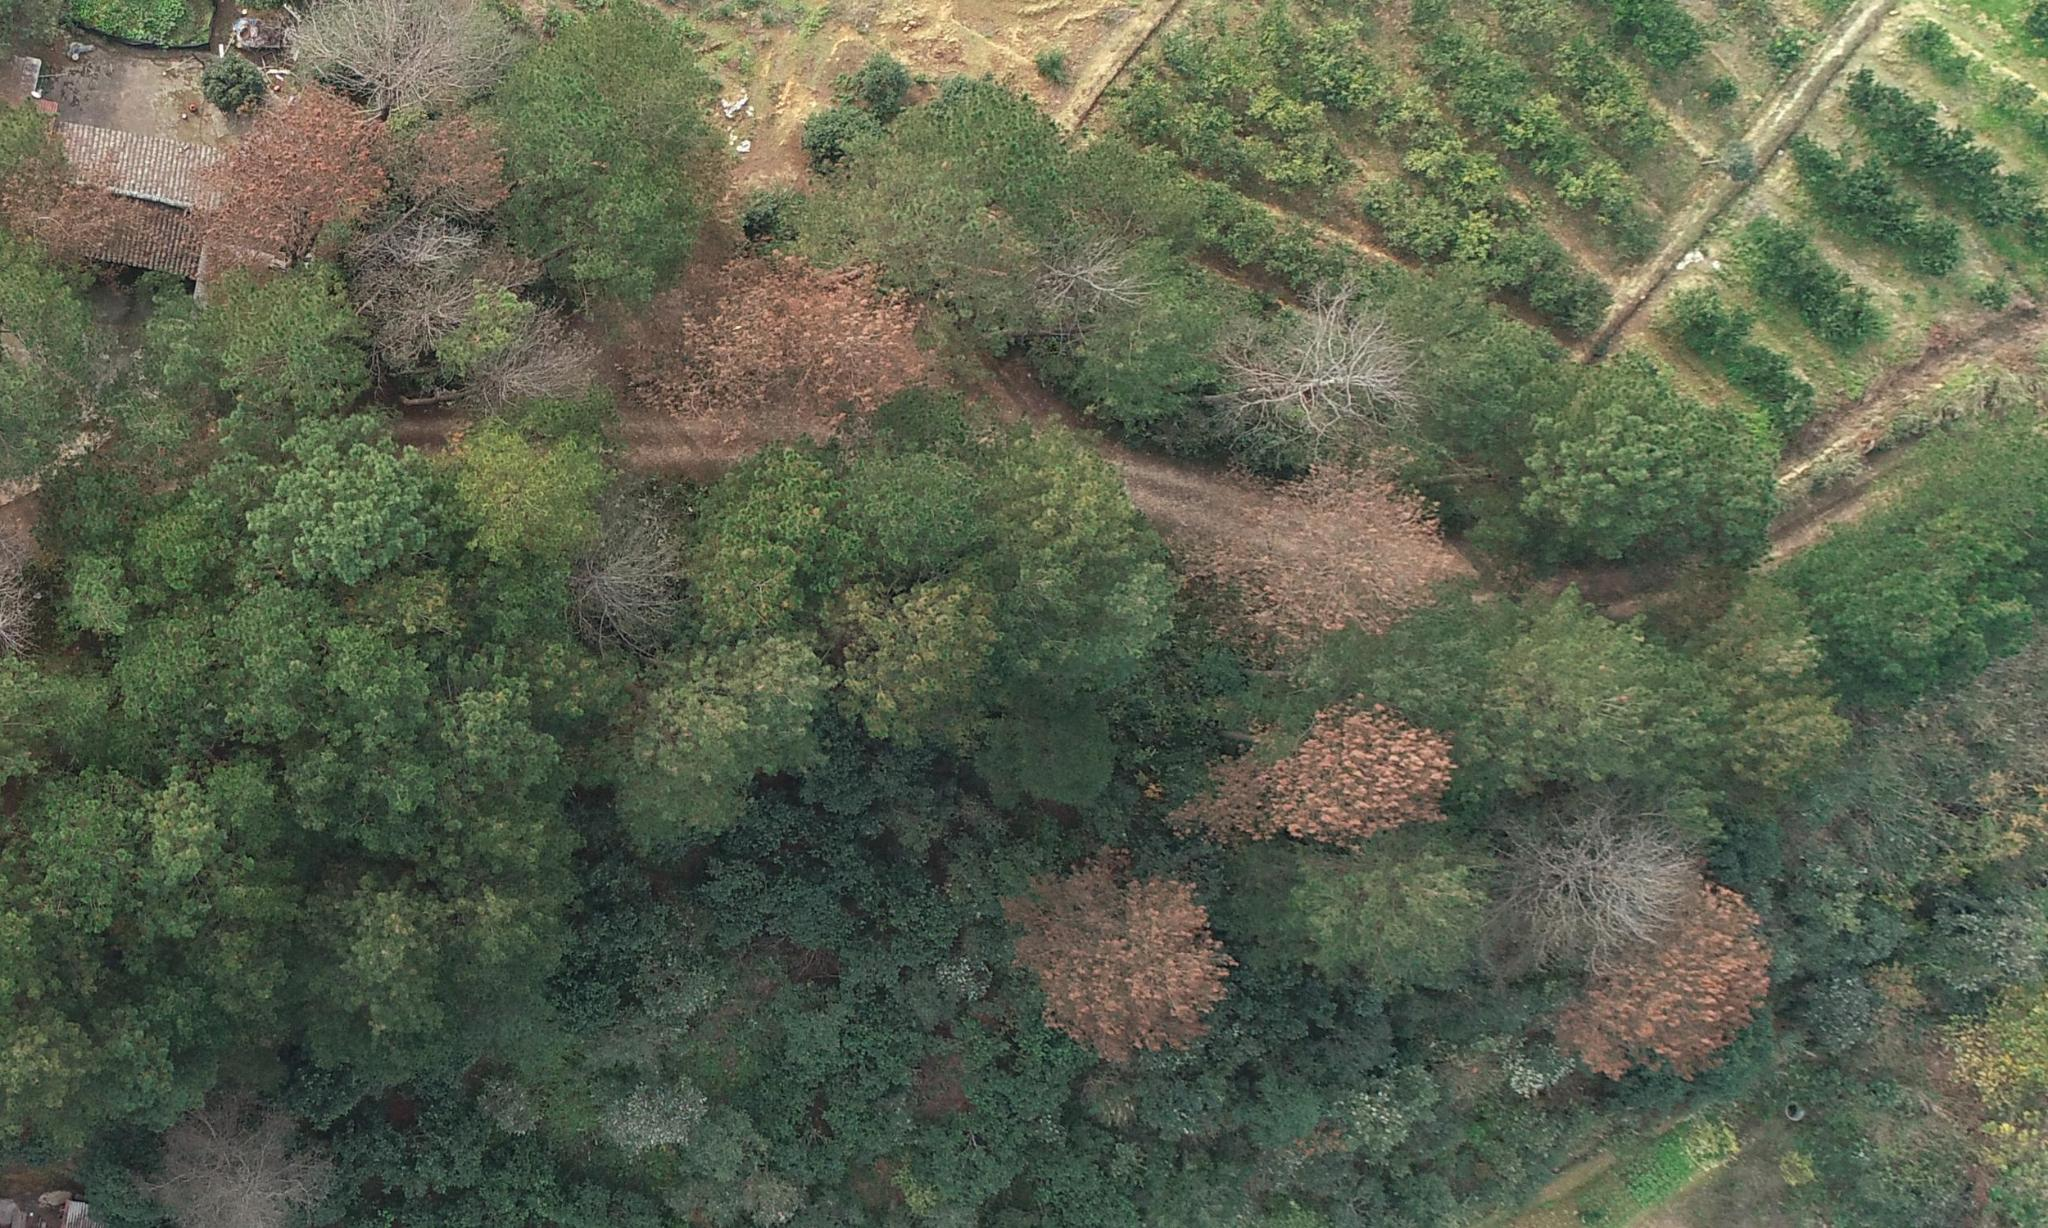dead: (1203, 295, 1412, 455), (1487, 801, 1681, 956), (278, 0, 520, 108), (1007, 231, 1162, 342)
heavy: (651, 263, 947, 444), (149, 85, 384, 257), (1025, 883, 1226, 1057), (1580, 883, 1764, 1072), (1169, 709, 1427, 827)
